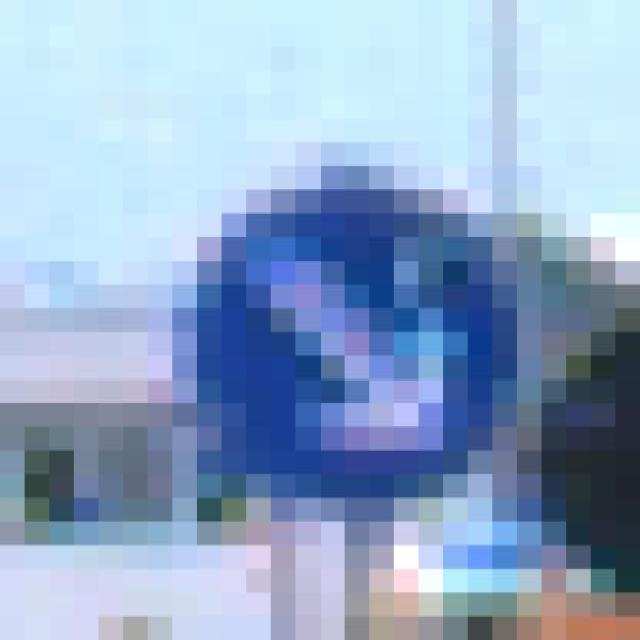Keep-Right: (173, 142, 542, 546)
